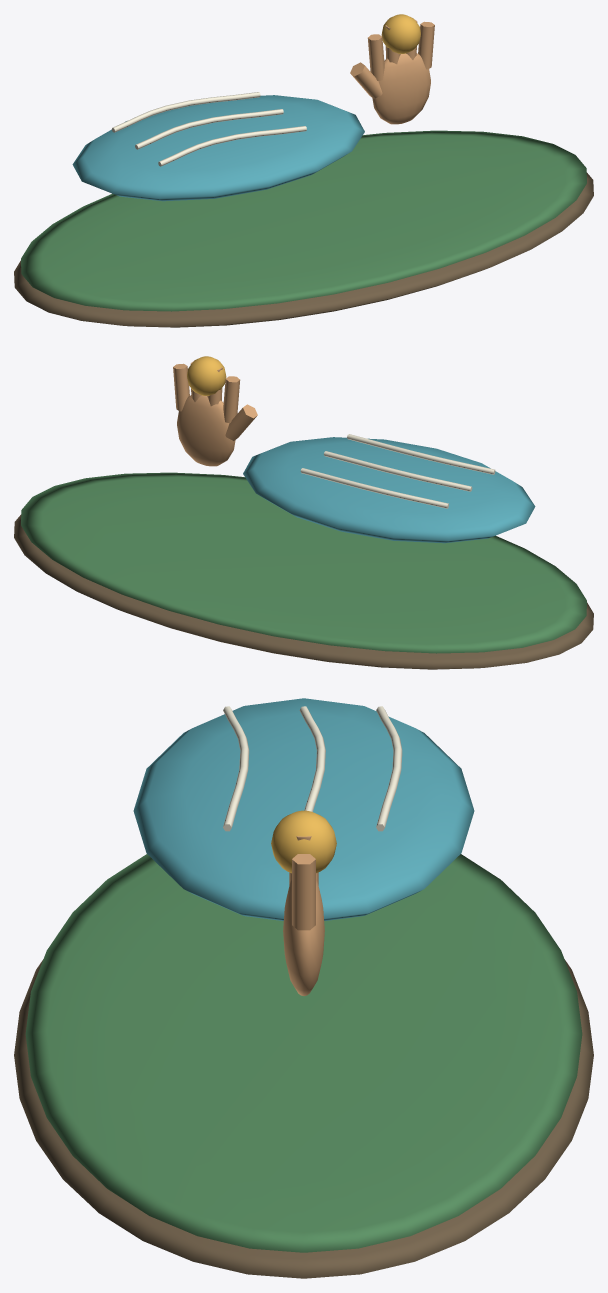
File: wash-first.glb
The picture shows the model from 3 angles, top to bottom: view 1: azimuth 30°, elevation 25°; view 2: azimuth 150°, elevation 25°; view 3: azimuth 270°, elevation 25°; orthographic projection. The views are drawn at different scales.
Visible parts, largest first — view 1: wash-first_surface_01, wash-first_surface_02, wash-first_surface_00, wash-first_surface_05, wash-first_surface_03, wash-first_surface_04; view 2: wash-first_surface_01, wash-first_surface_02, wash-first_surface_00, wash-first_surface_05, wash-first_surface_03, wash-first_surface_04; view 3: wash-first_surface_01, wash-first_surface_02, wash-first_surface_00, wash-first_surface_05, wash-first_surface_03, wash-first_surface_04.
Part boxes in pixels (x1,y1,x2,y2): wash-first_surface_01: [21, 130, 586, 311]; wash-first_surface_02: [72, 95, 364, 201]; wash-first_surface_00: [14, 172, 593, 327]; wash-first_surface_05: [350, 19, 434, 124]; wash-first_surface_03: [111, 92, 306, 166]; wash-first_surface_04: [381, 14, 420, 53]; wash-first_surface_01: [21, 472, 586, 653]; wash-first_surface_02: [243, 437, 535, 543]; wash-first_surface_00: [14, 514, 593, 669]; wash-first_surface_05: [173, 361, 257, 466]; wash-first_surface_03: [300, 434, 495, 508]; wash-first_surface_04: [187, 356, 226, 395]; wash-first_surface_01: [25, 854, 582, 1252]; wash-first_surface_02: [133, 698, 474, 920]; wash-first_surface_00: [14, 959, 593, 1278]; wash-first_surface_05: [283, 836, 324, 995]; wash-first_surface_03: [223, 706, 402, 831]; wash-first_surface_04: [271, 810, 336, 873].
Bounding box in the file's own units: 4.56 × 1.65 × 2.5.
